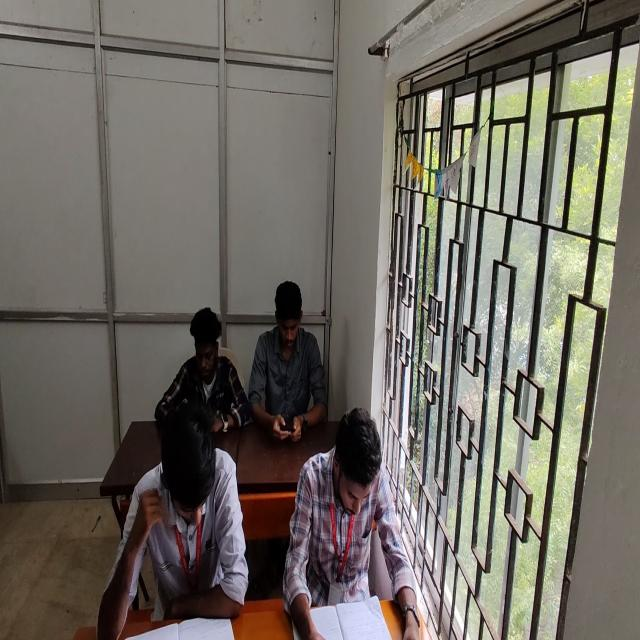reading: (277, 401, 428, 640), (99, 400, 248, 636)
using_mobile: (247, 280, 326, 441), (154, 305, 251, 436)
